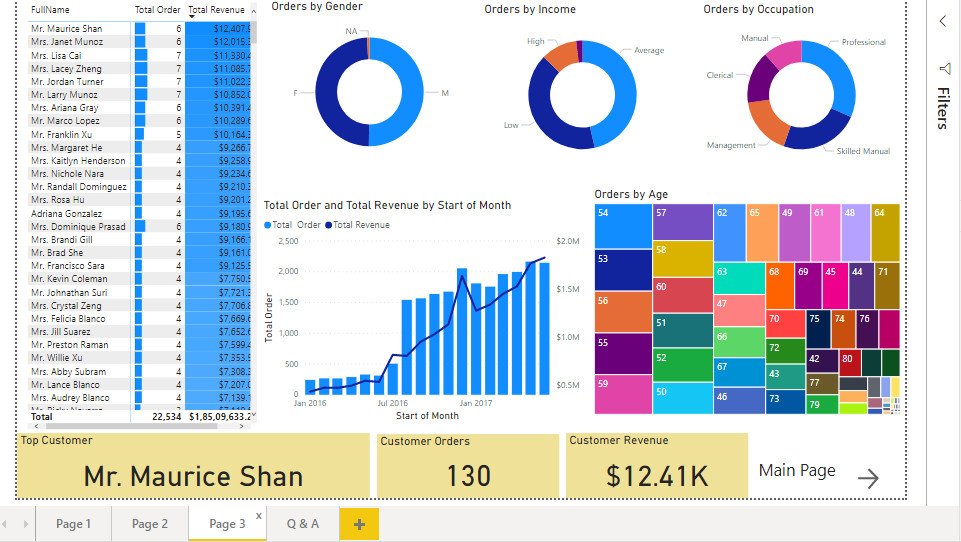

What the dashboard file says about the page in this screenshot:
{"tool":"powerbi","page":{"name":"Page 3","canvas":[1280,720],"ordinal":2},"visuals":[{"type":"pivotTable","fields":{"Rows":["AW_Customer_Lookup.FullName"],"Values":["AW_Sales.Total  Order","AW_Sales.Total Revenue"]},"box":[10.1,0,341.2,626],"z":0},{"type":"donutChart","title":"Orders by Gender","fields":{"Y":["AW_Sales.Total  Order"],"Category":["AW_Customer_Lookup.Gender"]},"box":[361.4,0,293.5,248.7],"z":1000},{"type":"donutChart","title":"Orders by Income","fields":{"Y":["AW_Sales.Total  Order"],"Category":["AW_Customer_Lookup.IncomeLevel"]},"box":[669.4,4.3,293.5,248.7],"z":2000},{"type":"donutChart","title":"Orders by Occupation","fields":{"Y":["AW_Sales.Total  Order"],"Category":["AW_Customer_Lookup.Occupation"]},"box":[986,4.3,293.5,248.7],"z":3000},{"type":"lineClusteredColumnComboChart","fields":{"Y":["AW_Sales.Total  Order"],"Category":["AW_Calendar_Lookup.Start of Month"],"Y2":["AW_Sales.Total Revenue"]},"box":[351.3,287.7,465.5,326.7],"z":4000},{"type":"treemap","title":"Orders by Age","fields":{"Values":["AW_Sales.Total  Order"],"Group":["AW_Customer_Lookup.Current Age"]},"box":[828.4,271.8,451.1,332.5],"z":5000},{"type":"card","title":"Top Customer","fields":{"Values":["AW_Customer_Lookup.FullName"]},"box":[0,626,508.9,94],"z":6000},{"type":"card","title":"Customer Orders","fields":{"Values":["AW_Sales.Total  Order"]},"box":[519,627.5,263.1,92.5],"z":7000},{"type":"card","title":"Customer Revenue","fields":{"Values":["AW_Sales.Total Revenue"]},"box":[792.3,626,263.1,94],"z":8000},{"type":"actionButton","box":[1207.2,672.3,72.3,40.5],"z":9000},{"type":"textbox","box":[1065.5,657.8,135.9,54.9],"z":10000}]}

Visuals, with their boxes on the page's 1280x720 design canvas (x1, y1, x2, y2). These are canvas units, not pixel positions in the 961x542 screenshot, which may show the page scaled, cropped or inside an application window:
pivotTable - AW_Customer_Lookup.FullName x AW_Sales.Total  Order: bbox=(10, 0, 351, 626)
"Orders by Gender" donutChart: bbox=(361, 0, 655, 249)
"Orders by Income" donutChart: bbox=(669, 4, 963, 253)
"Orders by Occupation" donutChart: bbox=(986, 4, 1280, 253)
lineClusteredColumnComboChart - AW_Sales.Total  Order x AW_Calendar_Lookup.Start of Month: bbox=(351, 288, 817, 614)
"Orders by Age" treemap: bbox=(828, 272, 1280, 604)
"Top Customer" card: bbox=(0, 626, 509, 720)
"Customer Orders" card: bbox=(519, 628, 782, 720)
"Customer Revenue" card: bbox=(792, 626, 1055, 720)
actionButton: bbox=(1207, 672, 1280, 713)
textbox: bbox=(1066, 658, 1201, 713)
